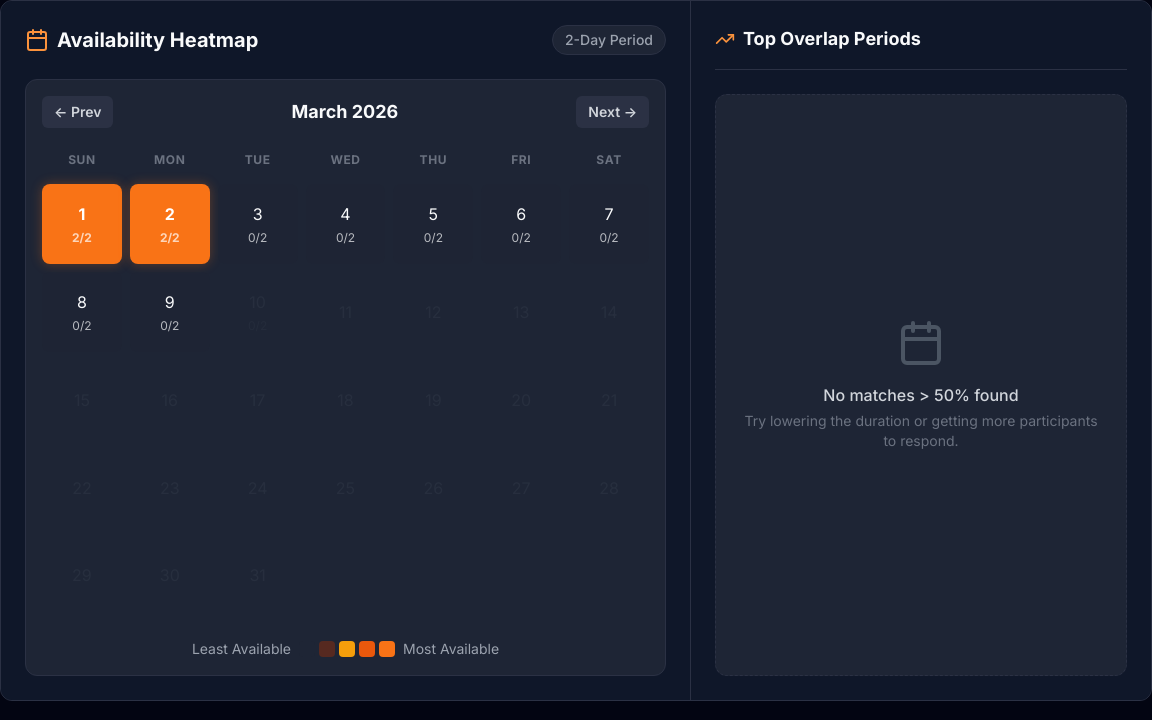
it: SlidingOverlapCalendar Edge Cases › shows "Everyone can make it" when all participants are fully available for a block
Click the button with test id "day-2026-03-01" at (82, 224), box [42,184,122,264]
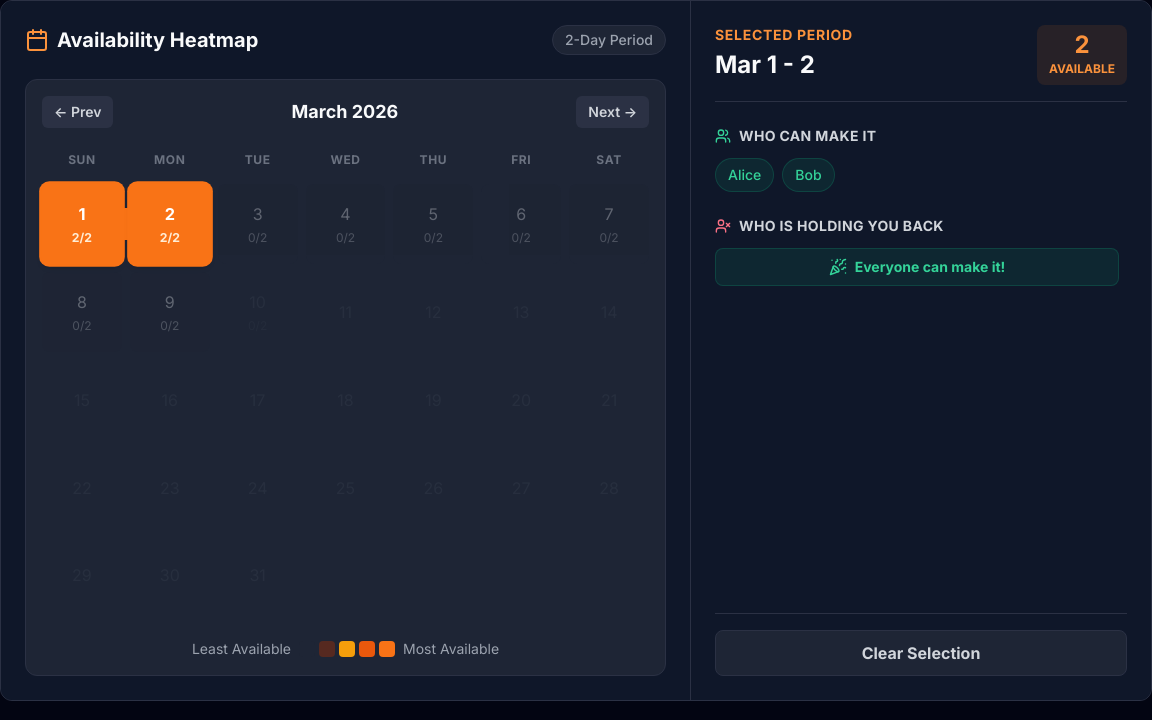
Check: the text "Everyone can make it!" is shown, box [715,248,1119,286]
